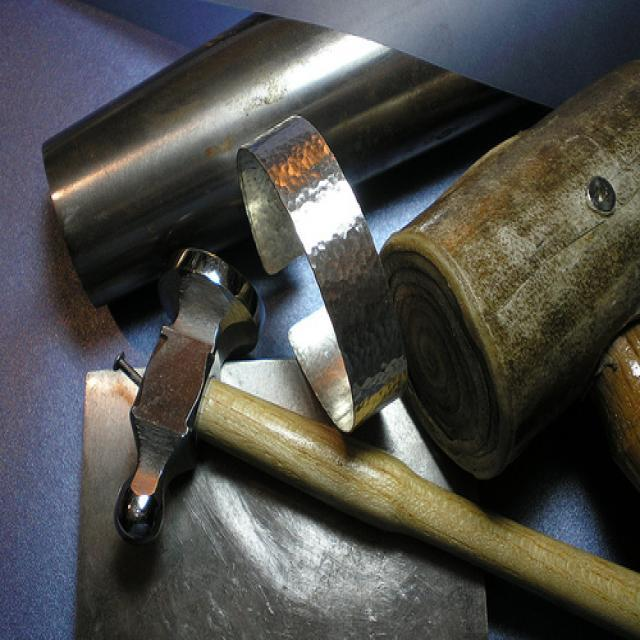hammer: (89, 225, 640, 639)
